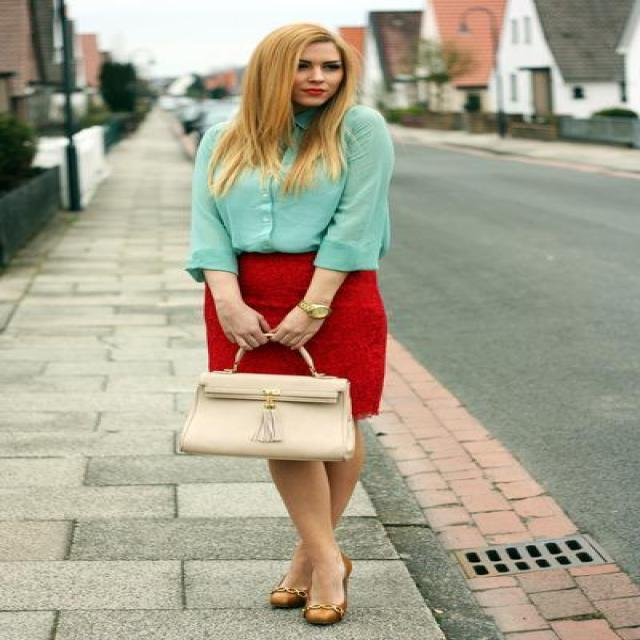bag: (184, 365, 354, 462)
shirt: (166, 117, 392, 270)
shoe: (270, 590, 348, 628)
skirt: (186, 244, 386, 422)
